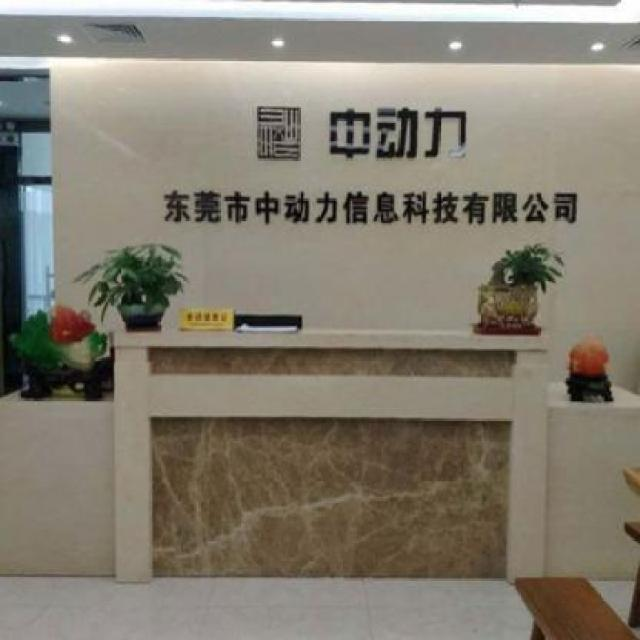frontdesk: (0, 312, 640, 588)
